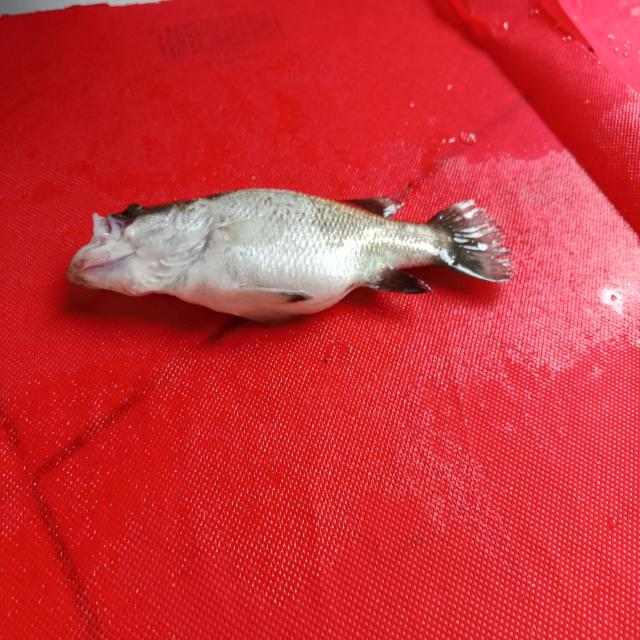ikan: (65, 161, 531, 346)
